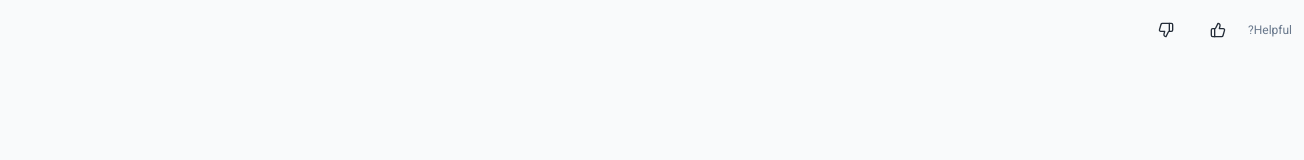
Test case: OutputFeedback › returns to initial state when Cancel is clicked
Click the button named "Negative feedback" at [1166, 30], box [1144,8,1188,52]
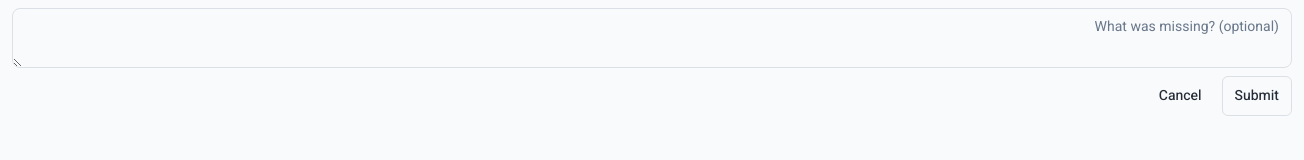
Click the button "Cancel" at [1180, 96], box [1147,76,1214,116]
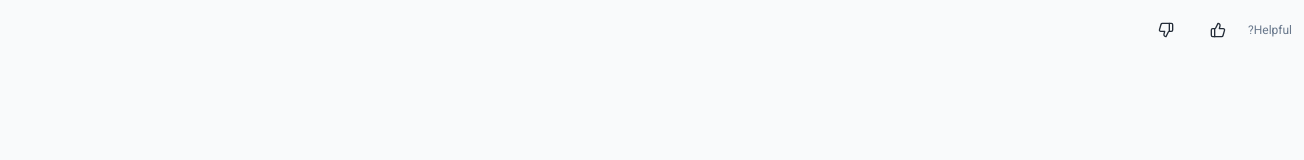
Expected: the text "Helpful?" is shown, [1248,22,1292,38]
